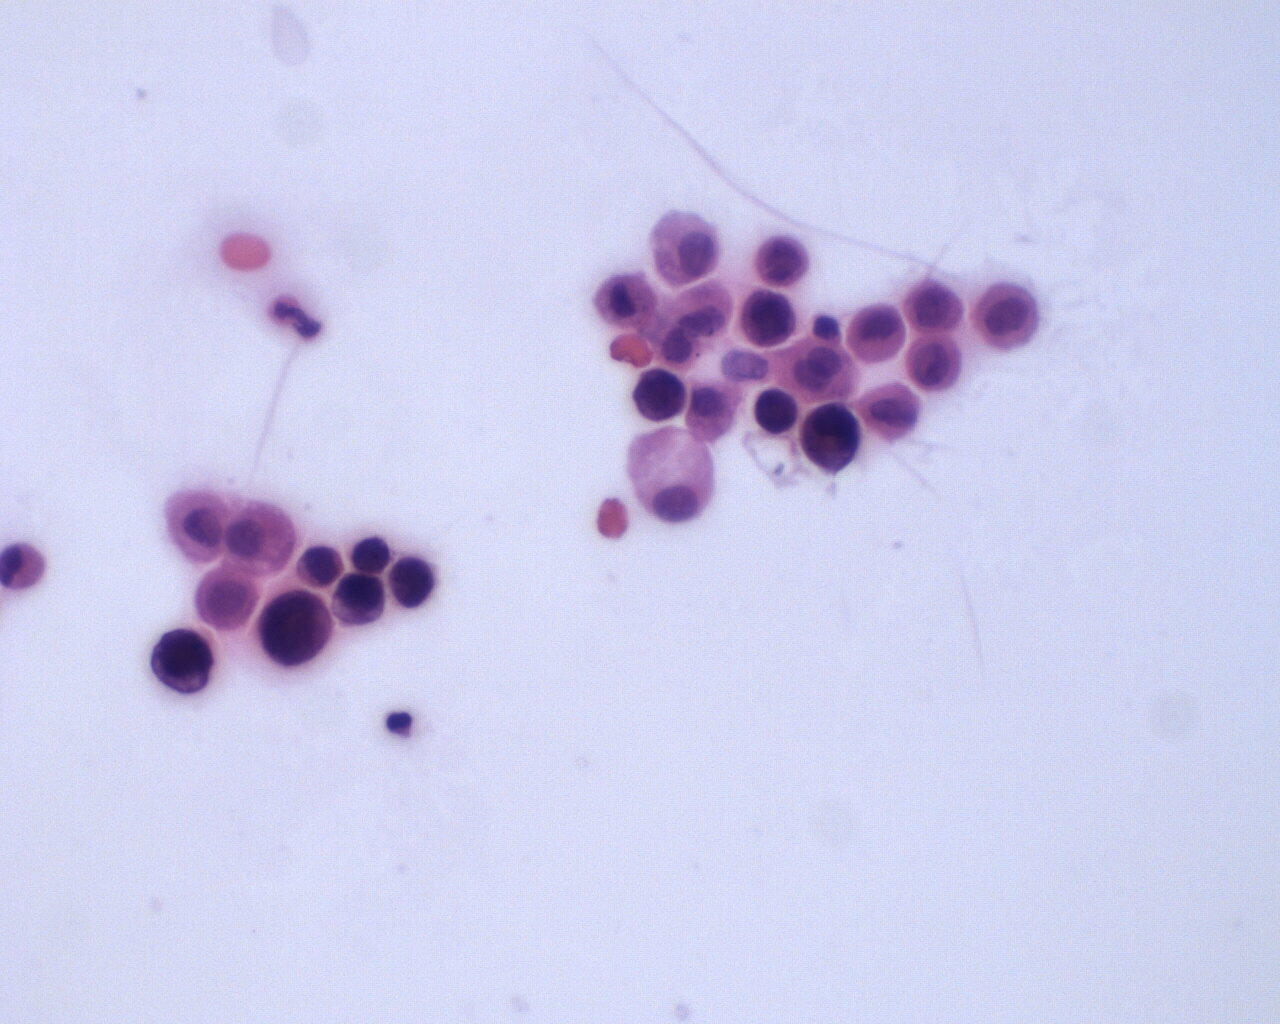ab: (256, 589, 334, 668), (799, 402, 864, 475), (149, 624, 215, 695), (856, 381, 924, 442), (901, 278, 969, 338), (904, 333, 964, 395), (740, 287, 798, 350), (629, 367, 691, 424), (329, 569, 389, 628), (757, 234, 814, 290), (386, 556, 442, 612), (753, 385, 799, 439), (295, 541, 345, 588)
histo: (628, 424, 717, 527)
